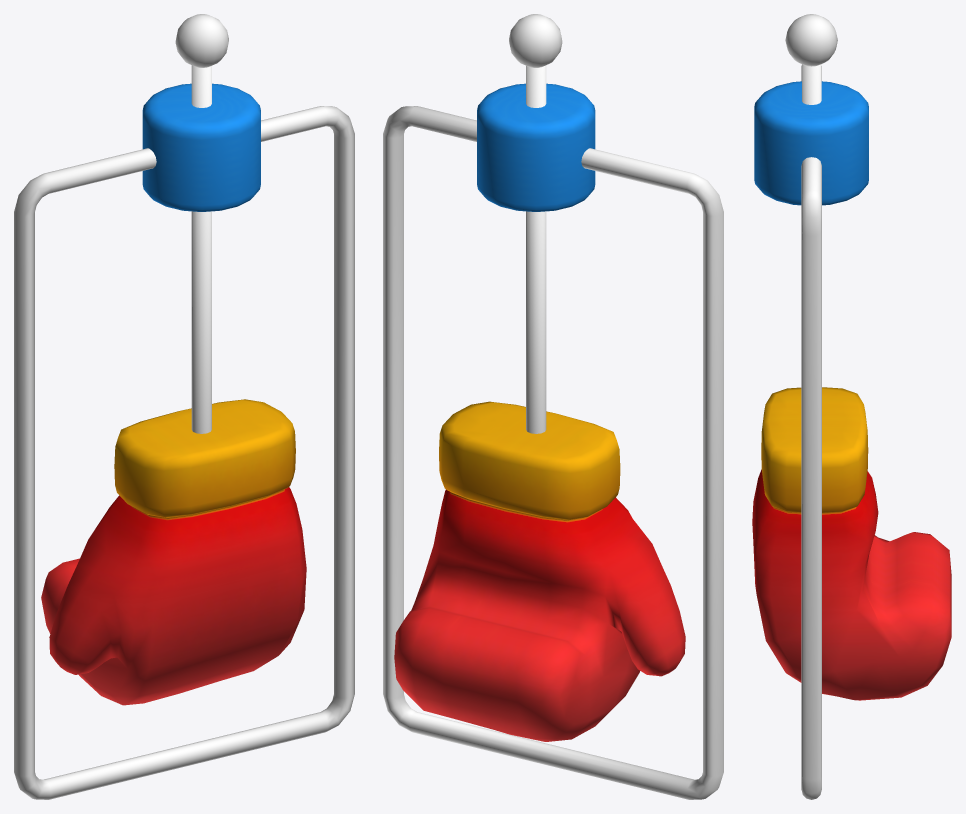
The model's file is FistMachine.fbx.
3 renders of one model, left to right at view 1: azimuth 30°, elevation 25°; view 2: azimuth 150°, elevation 25°; view 3: azimuth 270°, elevation 25°, orthographic. The views are drawn at different scales.
Parts seen in each view (by area): view 1: Box001, Cylinder003, Cylinder002, Cylinder001; view 2: Box001, Cylinder003, Cylinder002, Cylinder001; view 3: Box001, Cylinder003, Cylinder002, Cylinder001.
Boxes of the visible parts, <box> form: Box001: <box>41,399,306,705</box>; Cylinder003: <box>14,106,354,799</box>; Cylinder002: <box>142,83,260,211</box>; Cylinder001: <box>175,14,228,433</box>; Box001: <box>394,401,685,741</box>; Cylinder003: <box>383,106,723,799</box>; Cylinder002: <box>477,83,595,211</box>; Cylinder001: <box>509,14,562,433</box>; Box001: <box>752,387,951,700</box>; Cylinder003: <box>801,65,821,799</box>; Cylinder002: <box>754,81,868,205</box>; Cylinder001: <box>785,14,837,104</box>.
Size of the model in its own units: 5.18 by 10.91 by 2.72.
1 material, 1 textured.
